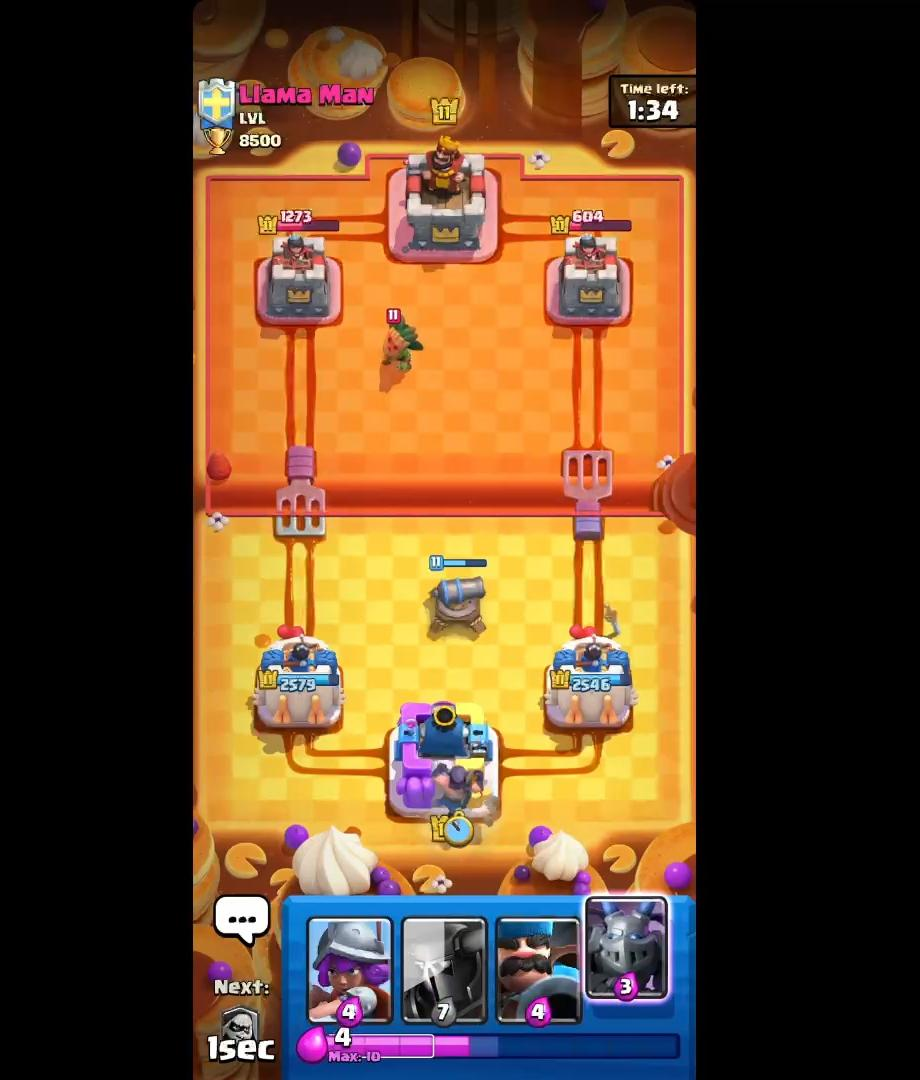Dart Goblin: (373, 303, 427, 382)
